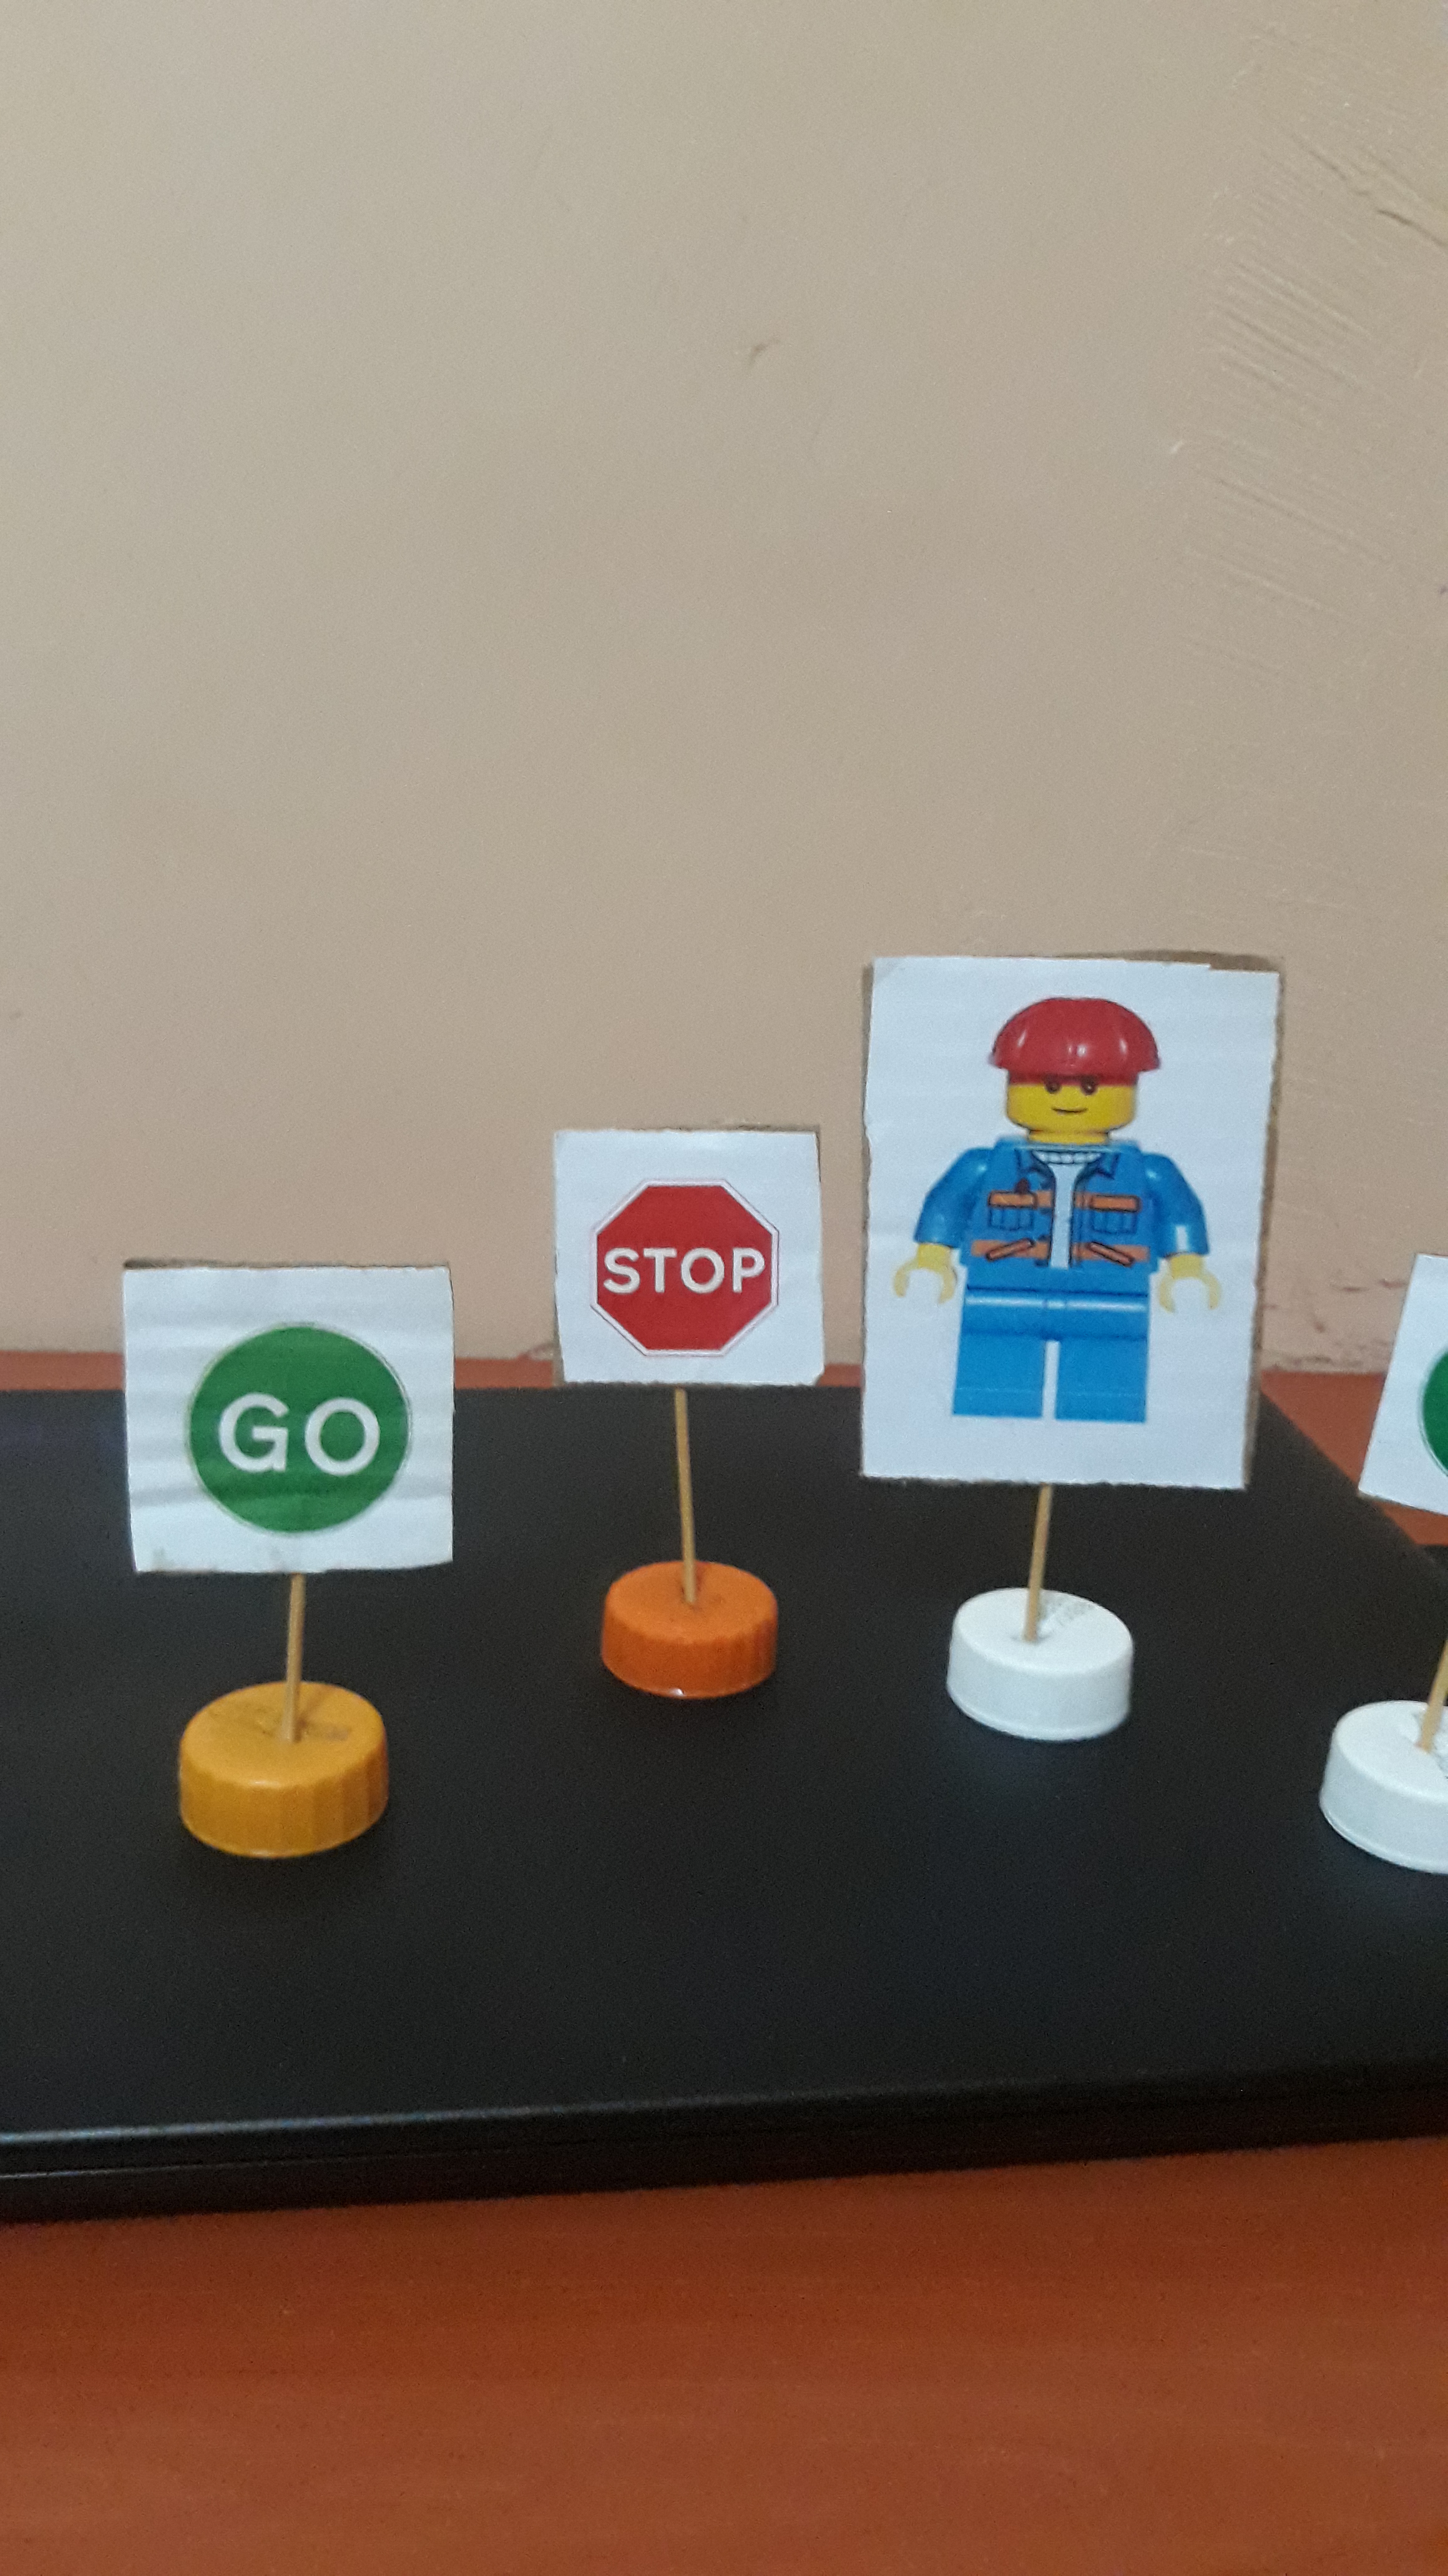go: (127, 1288, 431, 1557)
pedestrian: (880, 964, 1251, 1491)
stop: (564, 1139, 818, 1385)
